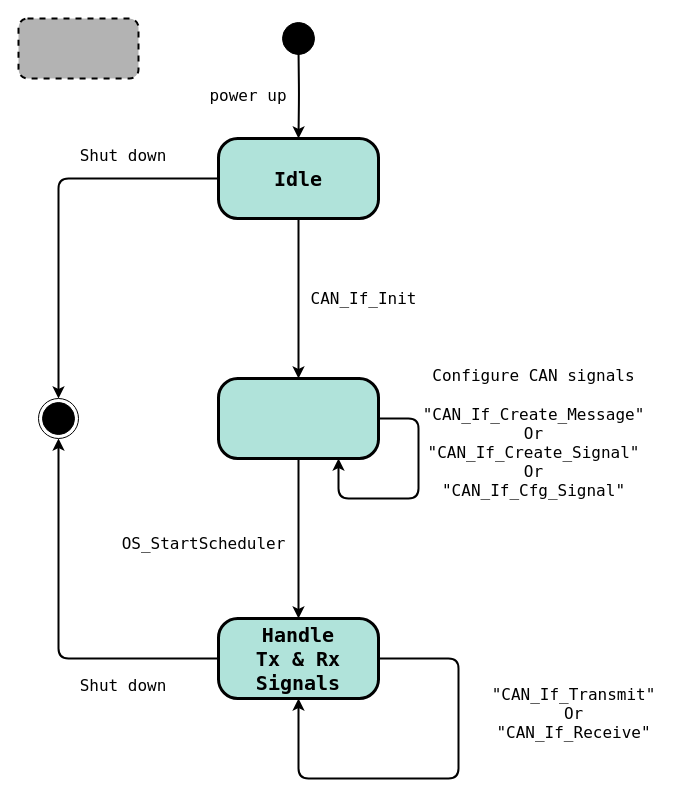
Some shapes in this 685 by 804 pixel diagram are drawn without their labels. The shapes that lost their labels are listed below. From the top down, each one's box as (x1, y1, x2, y2) in pixels, then its label:
(17, 17, 139, 79): CAN_If module
(216, 376, 380, 460): Preparing CAN Signals
